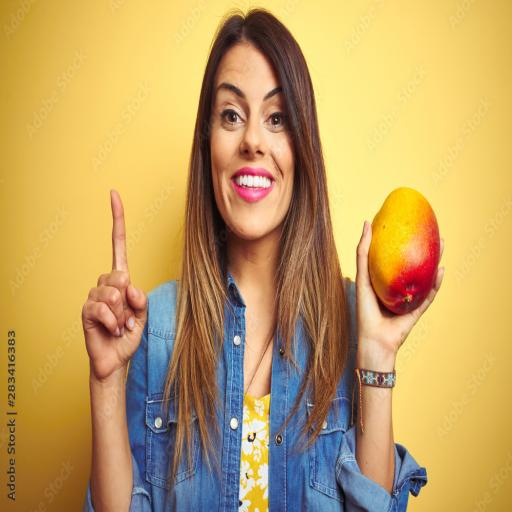mango: (369, 188, 440, 313)
